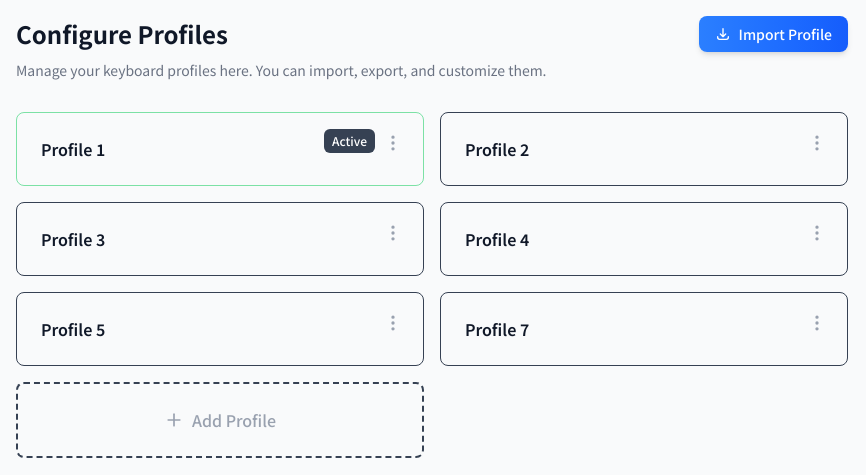
Test: ProfilesPage › names a new profile after its slot
Click the button "Add Profile".
click(220, 420)  # box [16, 382, 424, 458]
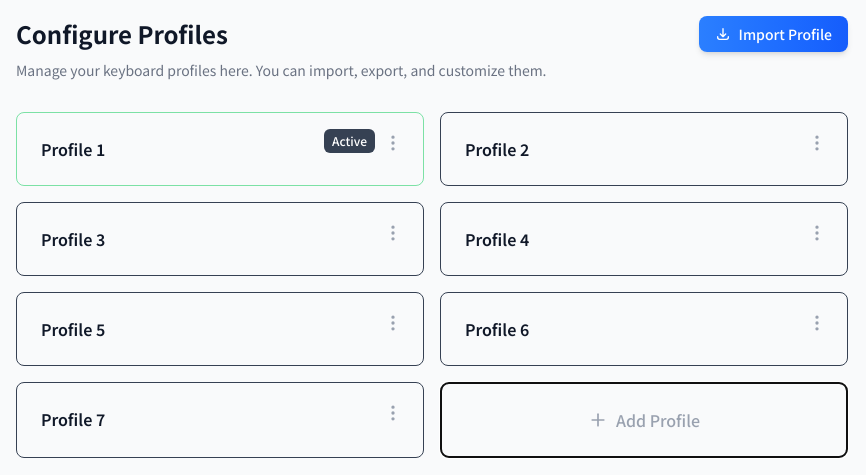
Expected: the heading "Profile 6" is shown, [465, 317, 529, 341]
